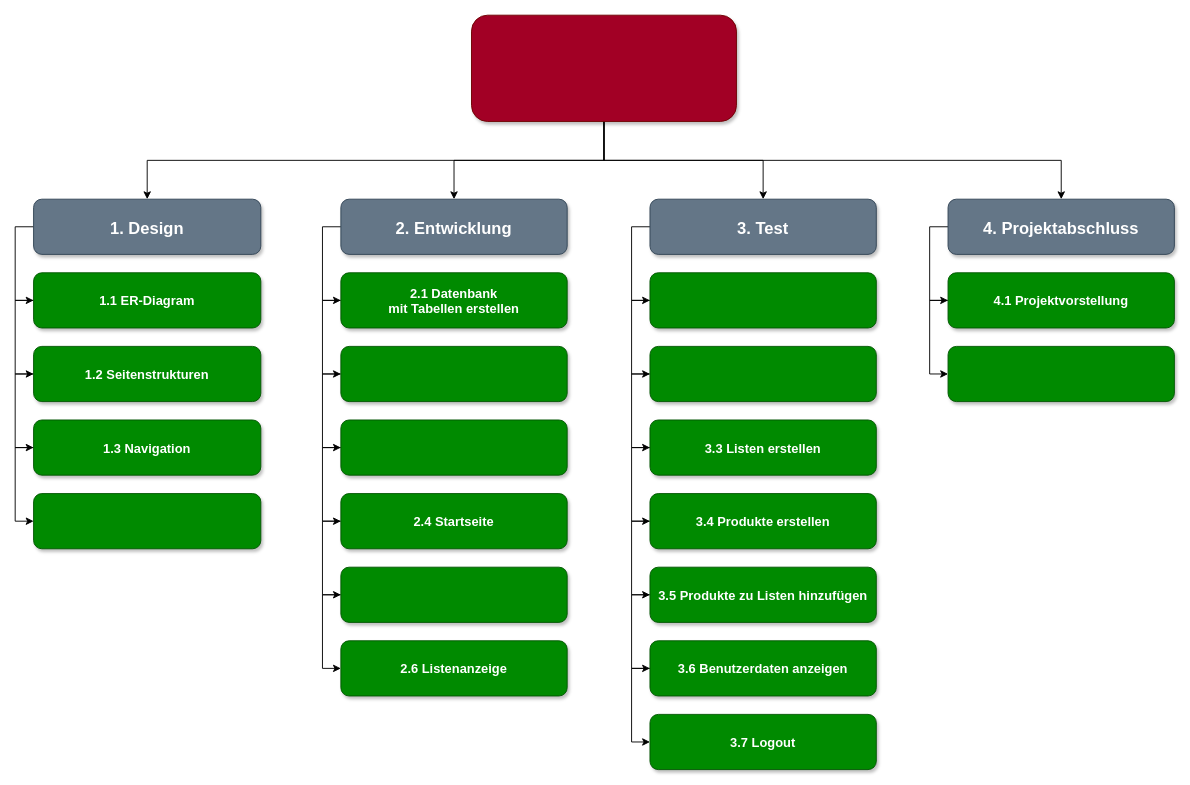
Image size: 1190x785. Some labels were removed from this diagram. The centre of each missing label's shape, as x and y in pixels:
"1.4 Farbgebung/Layout" belongs at point (147, 522).
"2.2 Registrierungs Seite" belongs at point (454, 375).
"2.3 LogIn Seite" belongs at point (454, 448).
"2.5 Produktanzeige" belongs at point (454, 596).
"3.1 Benutzer Anlegen" belongs at point (763, 301).
"3.2 Benutzeranmeldung" belongs at point (763, 375).
"4.2 Dokumentationsabschluss" belongs at point (1061, 375).
"Projekt Smart-Inventory-Manager" belongs at point (604, 69).
